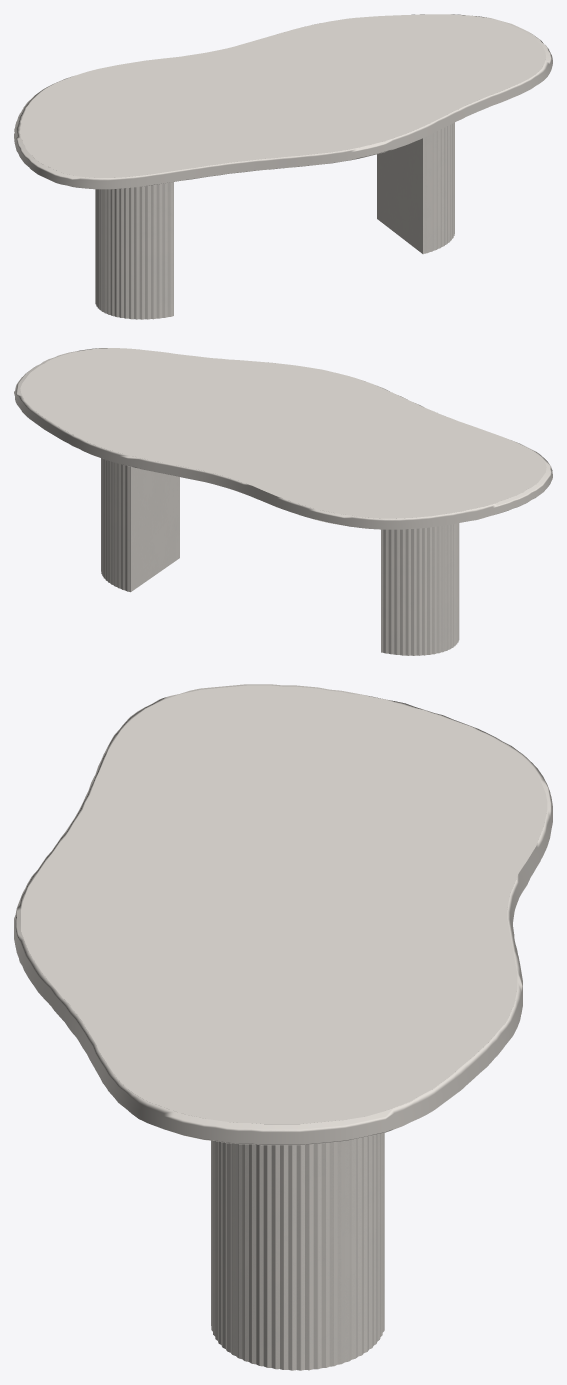
Rendered from pearlwhite_toplast_round_flute.glb.
3 views of the same model, one above another, from view 1: azimuth 30°, elevation 25°; view 2: azimuth 150°, elevation 25°; view 3: azimuth 270°, elevation 25° (orthographic). The views are drawn at different scales.
Parts seen in each view (by area): view 1: round_toplast, flute; view 2: round_toplast, flute; view 3: round_toplast, flute.
Part boxes in pixels (box(x1,y1,x2,y2)): round_toplast: box(14, 14, 552, 189); flute: box(95, 122, 454, 319); round_toplast: box(14, 348, 552, 529); flute: box(101, 458, 459, 655); round_toplast: box(14, 684, 552, 1145); flute: box(211, 1133, 384, 1370).
Bounding box in the file's own units: 7.68 × 2.5 × 3.89.
1 material, 1 textured.
